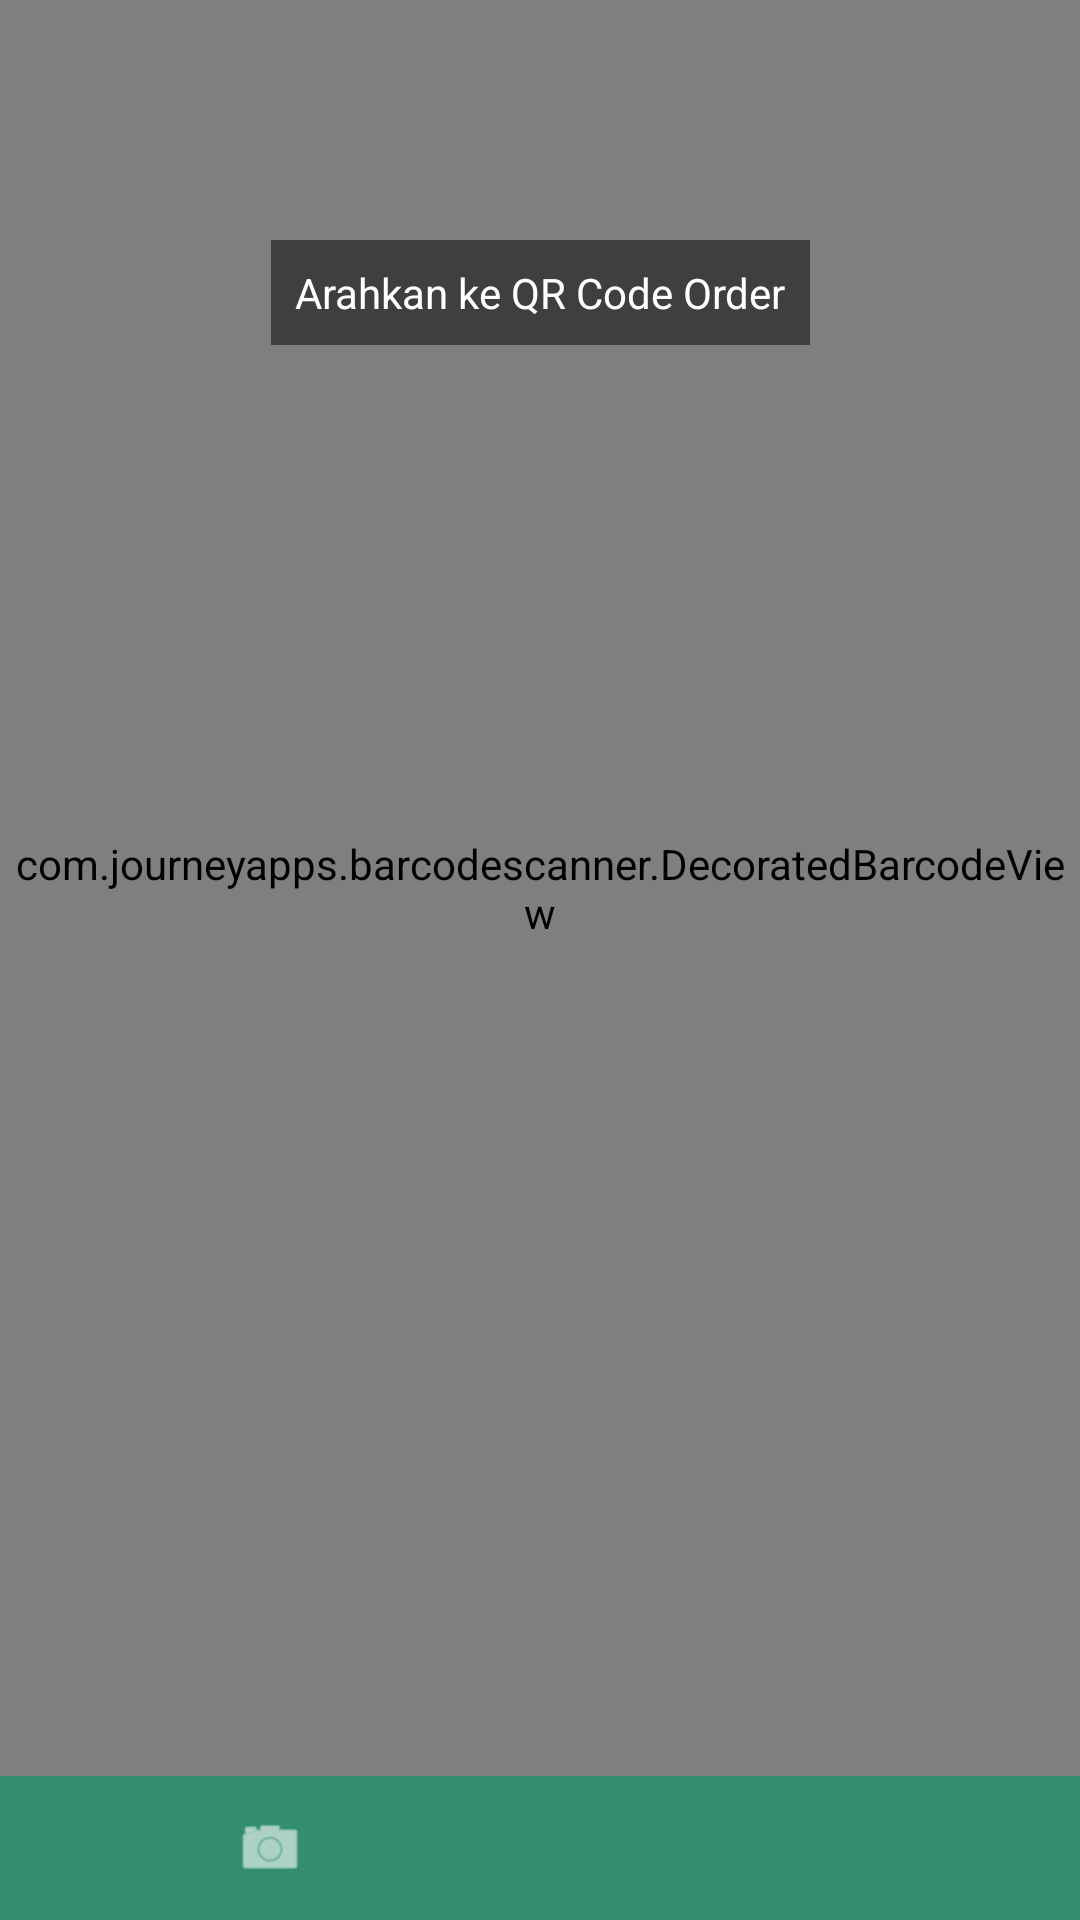

Named icons in this screenshot (1080px×1920px) and their bounding boxes, (x1, y1, x2, y2):
camera: (242, 1825, 298, 1869)
